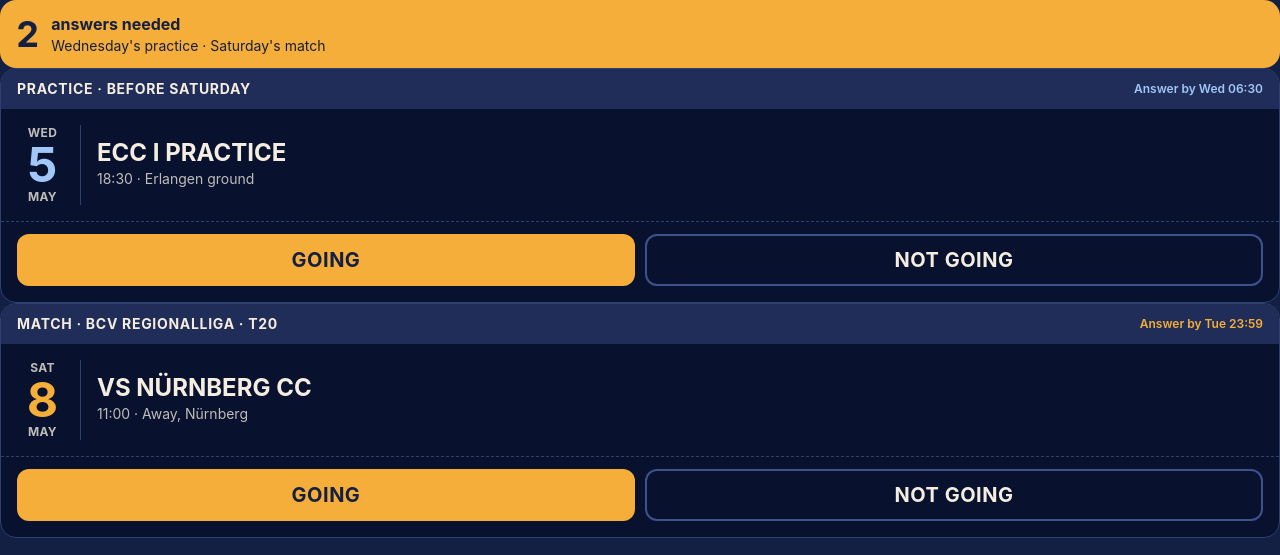
Test: OwnWeek › records Going at once and counts down
Step 1. Click the button "Going" below "18:30 · Erlangen ground" → (326, 260), box 17,234 -> 635,286
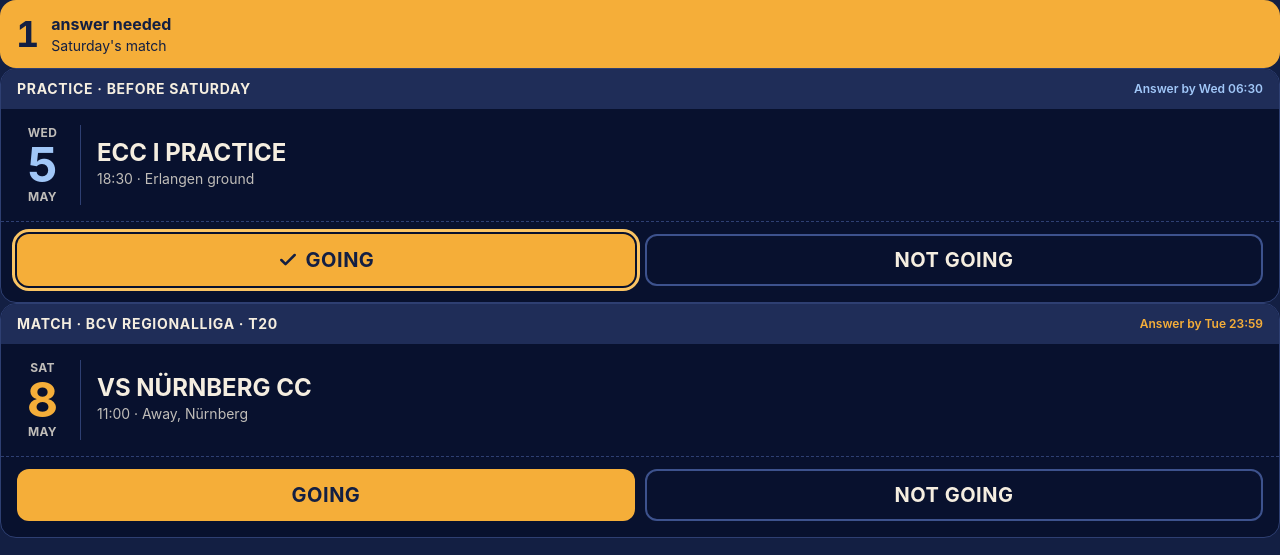
Now the text "answer needed" is shown, box 51,12 -> 172,36
